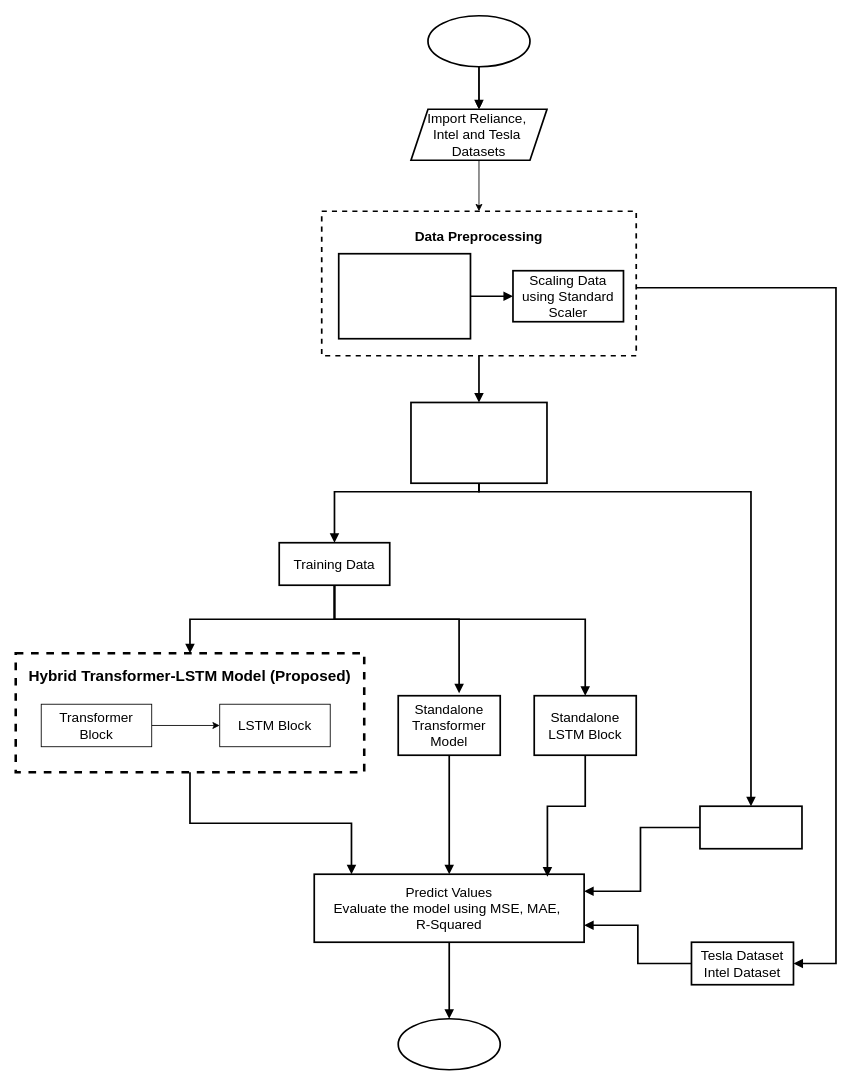
Image size: 859x1085. Some labels were removed from this diagram. Here are the shapes that lost their labels. From the top down, the centre of each, then its label:
At point (478, 40): "Start".
At point (404, 295): "Removing Null Values and Outliers, and Data Type Conversion".
At point (478, 442): "Train Test Splitting Reliance Data 67% Training 33% Testing".
At point (750, 827): "Testing Data".
At point (449, 1043): "End".
